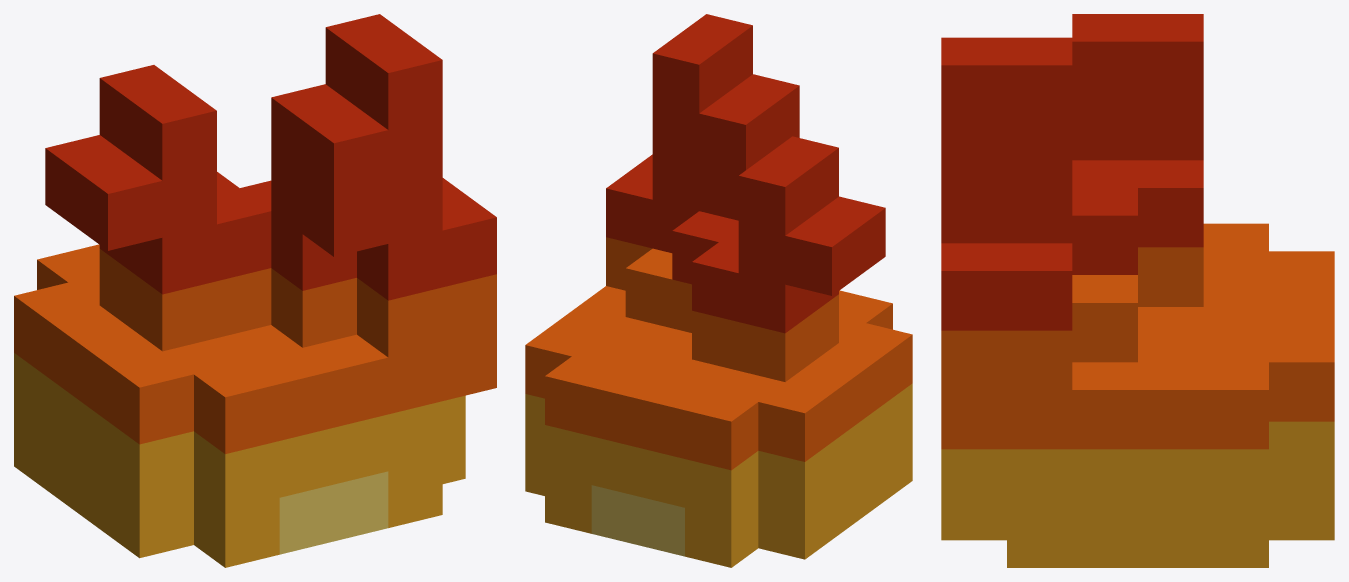
File: flame_06.glb
The picture shows the model from 3 angles, left to right: view 1: azimuth 30°, elevation 25°; view 2: azimuth 150°, elevation 25°; view 3: azimuth 270°, elevation 25°; orthographic projection. The views are drawn at different scales.
Visible parts, largest first — view 1: flame_06; view 2: flame_06; view 3: flame_06.
Boxes of the visible parts, x1,y1,x2,y2 form: flame_06: [14, 14, 496, 567]; flame_06: [525, 14, 912, 567]; flame_06: [941, 14, 1334, 567].
Bounding box in the file's own units: 0.75 × 1 × 0.75.
